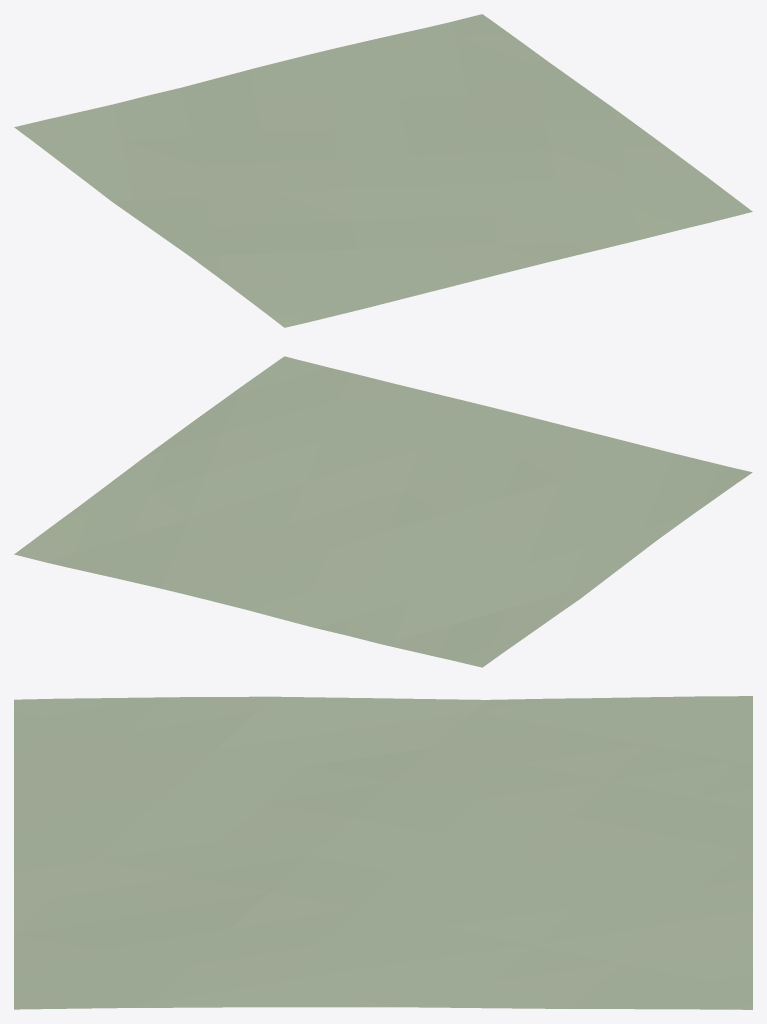
File: SM_MPRR_Terrain_-3_0.fbx
The picture shows the model from 3 angles, top to bottom: view 1: azimuth 30°, elevation 25°; view 2: azimuth 150°, elevation 25°; view 3: azimuth 270°, elevation 25°; orthographic projection. The views are drawn at different scales.
Parts seen in each view (by area): view 1: SM_MPRR_Terrain_-3_0; view 2: SM_MPRR_Terrain_-3_0; view 3: SM_MPRR_Terrain_-3_0.
Boxes of the visible parts, left/top/right/bottom form: SM_MPRR_Terrain_-3_0: left=14, top=14, right=752, bottom=327; SM_MPRR_Terrain_-3_0: left=14, top=356, right=752, bottom=667; SM_MPRR_Terrain_-3_0: left=14, top=696, right=752, bottom=1009.
Bounding box in the file's own units: 15000 × 15000 × 152.
